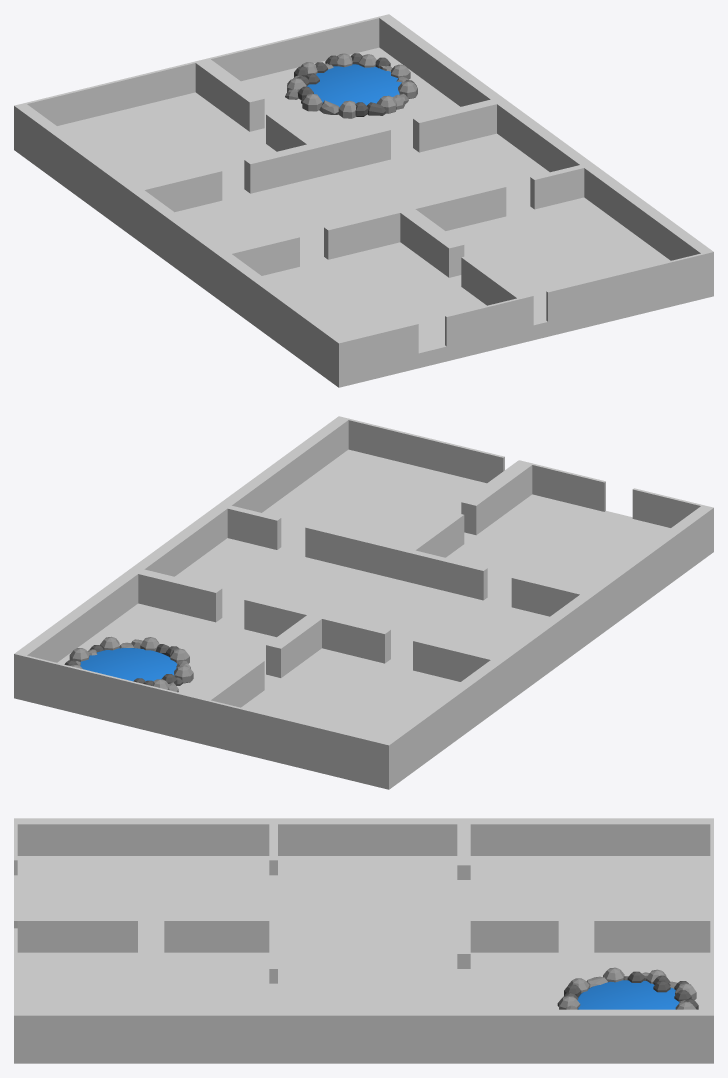
The model's file is House.fbx.
3 renders of one model, top to bottom at view 1: azimuth 30°, elevation 25°; view 2: azimuth 150°, elevation 25°; view 3: azimuth 270°, elevation 25°, orthographic. The views are drawn at different scales.
Visible parts, largest first — view 1: house, water.001, stone001.001, stone.001, stone004.001; view 2: house, water.001, stone001.001; view 3: house, water.001, stone001.001, stone.001.
Boxes of the visible parts, left/top/right/bottom form: house: left=14, top=14, right=713, bottom=387; water.001: left=307, top=64, right=401, bottom=106; stone001.001: left=287, top=53, right=417, bottom=118; stone.001: left=294, top=53, right=416, bottom=116; stone004.001: left=285, top=63, right=408, bottom=114; house: left=14, top=416, right=713, bottom=789; water.001: left=80, top=648, right=177, bottom=681; stone001.001: left=69, top=636, right=193, bottom=689; house: left=14, top=818, right=713, bottom=1063; water.001: left=577, top=980, right=679, bottom=1009; stone001.001: left=559, top=967, right=696, bottom=1009; stone.001: left=557, top=971, right=698, bottom=1009.
Bounding box in the file's own units: 4000 × 452 × 6000.
